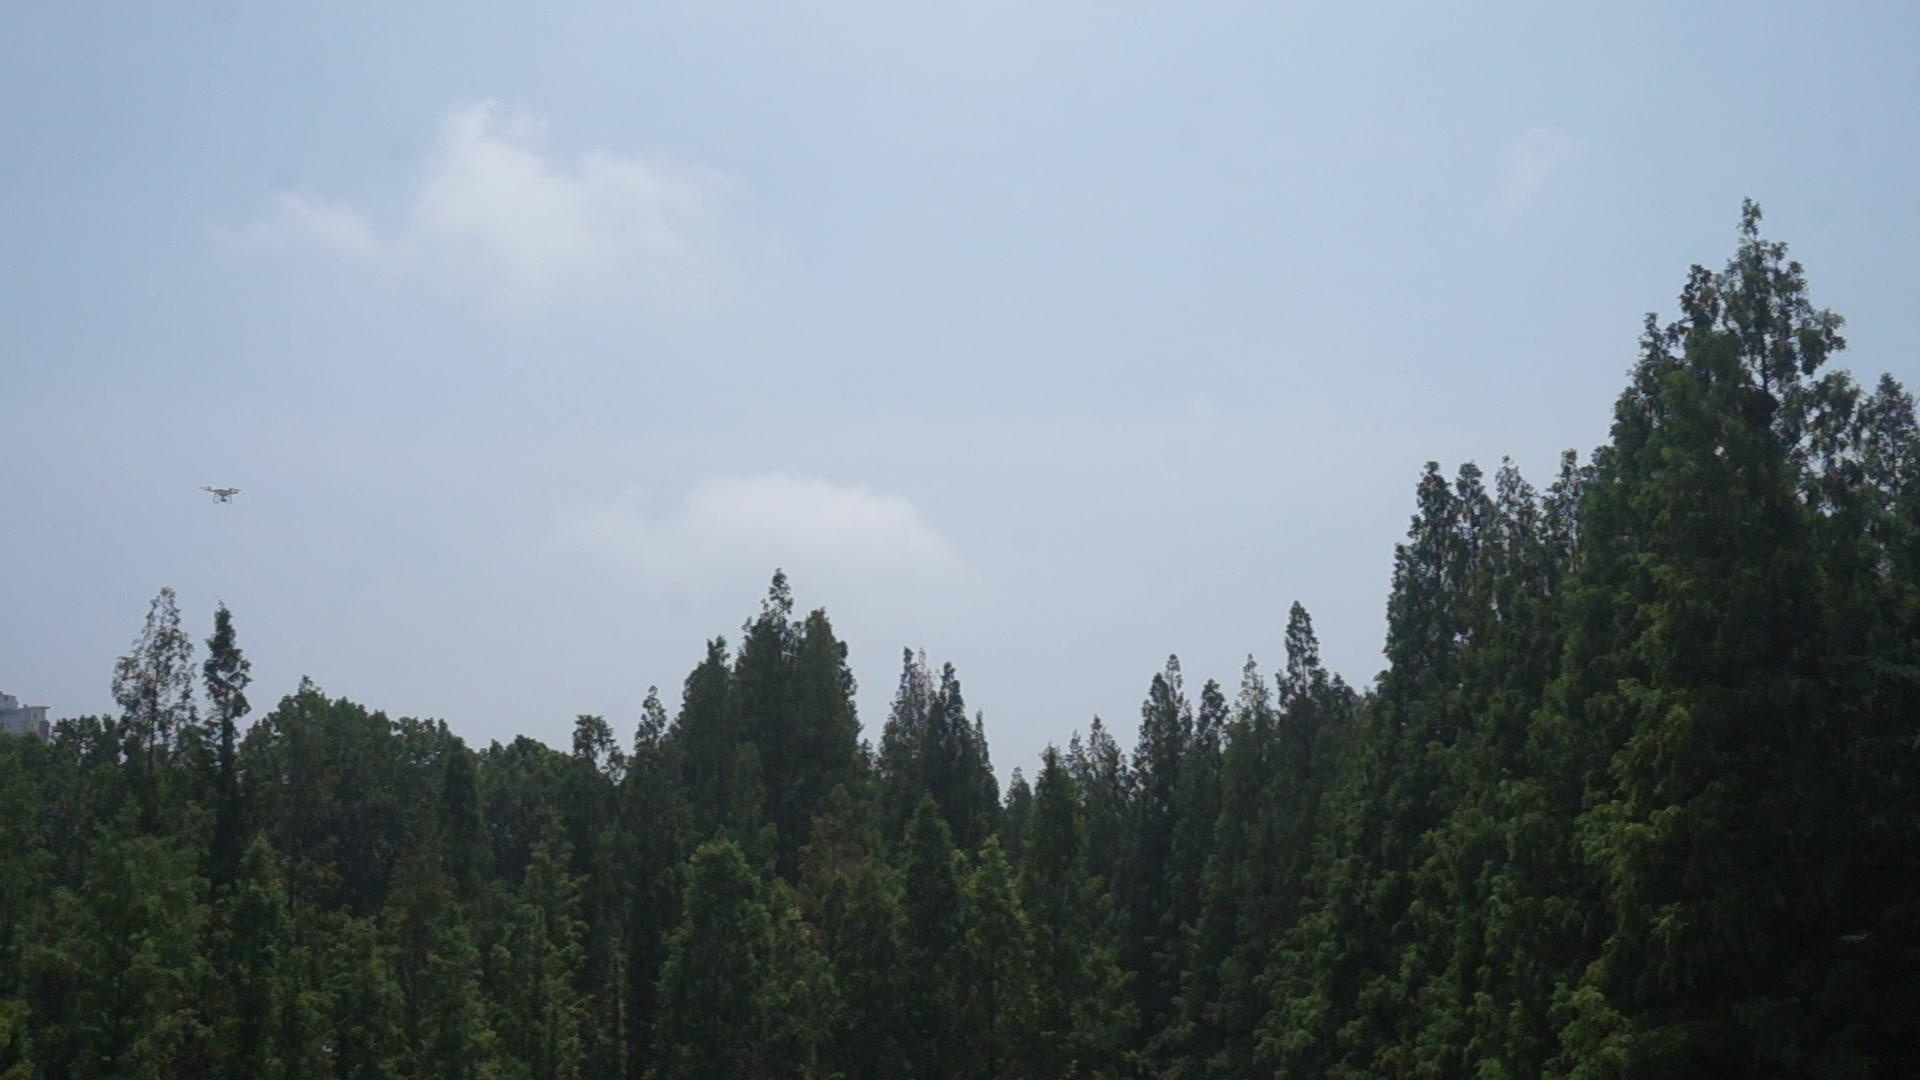UAV: (199, 487, 243, 505)
